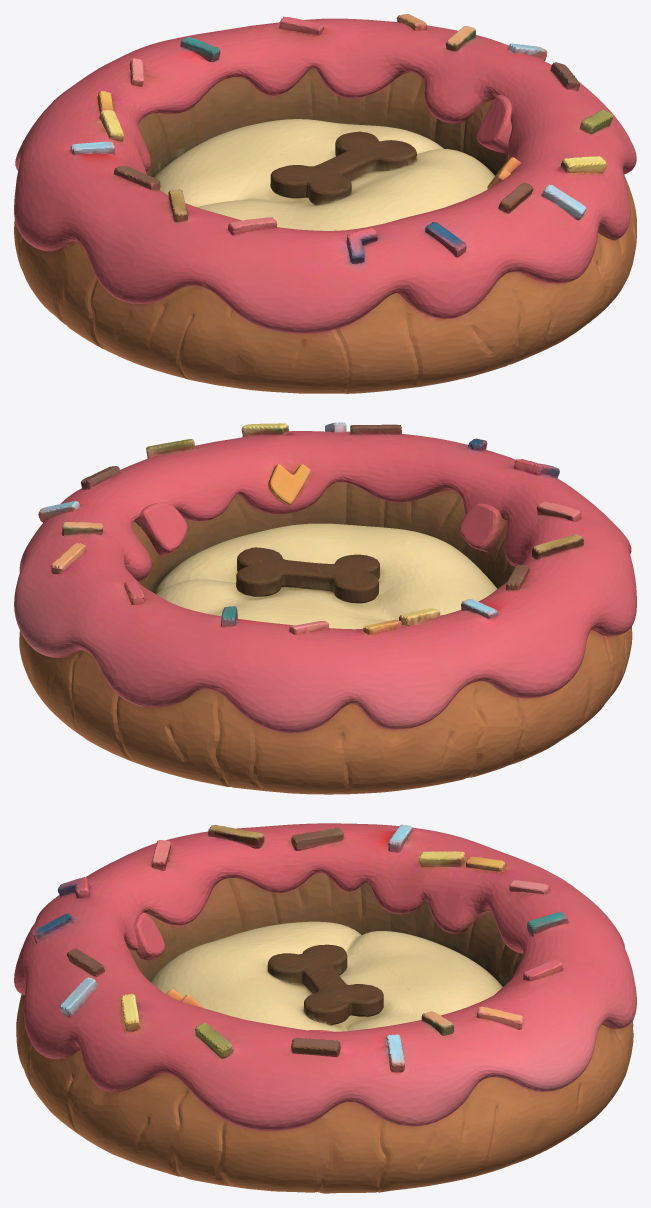
Rendered from DOM_mat_1__fourth.glb.
3 views of the same model, one above another, from view 1: azimuth 30°, elevation 25°; view 2: azimuth 150°, elevation 25°; view 3: azimuth 270°, elevation 25° (orthographic). The views are drawn at different scales.
Visible parts, largest first — view 1: tripo_node_81c847ce-998f-4068-93c3-ae5f961a292d; view 2: tripo_node_81c847ce-998f-4068-93c3-ae5f961a292d; view 3: tripo_node_81c847ce-998f-4068-93c3-ae5f961a292d.
Part boxes in pixels (x1,y1,x2,y2): tripo_node_81c847ce-998f-4068-93c3-ae5f961a292d: (14,14,636,393); tripo_node_81c847ce-998f-4068-93c3-ae5f961a292d: (14,422,636,794); tripo_node_81c847ce-998f-4068-93c3-ae5f961a292d: (14,823,636,1193).
Size of the model in its own units: 0.9799 by 0.2717 by 0.9728.
Materials: 1 (1 with a texture image).
